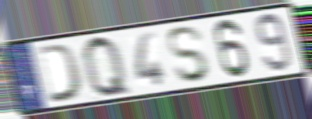4: (133, 30, 168, 89)
6: (212, 18, 251, 80)
9: (255, 10, 295, 77)
D: (35, 41, 85, 106)
Q: (80, 33, 135, 100)
S: (165, 24, 213, 86)
